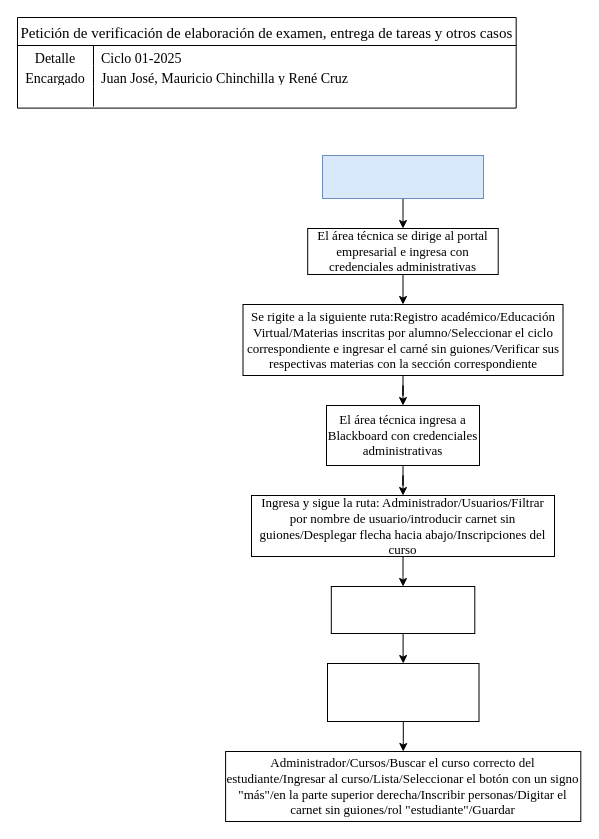
Some shapes in this 599 by 839 pixel diagram are drawn without their labels. The shapes that lost their labels are listed below. From the top down, each one's centre as x and y in pixels, then its label:
At (x=403, y=176): "Cambio de sección a estudiante".
At (x=402, y=610): "Verificar cual es el curso en el que está inscrito incorrectamente".
At (x=402, y=692): "Quitar el acceso dándole de baja de ese curso y matricular en curso correcto".
